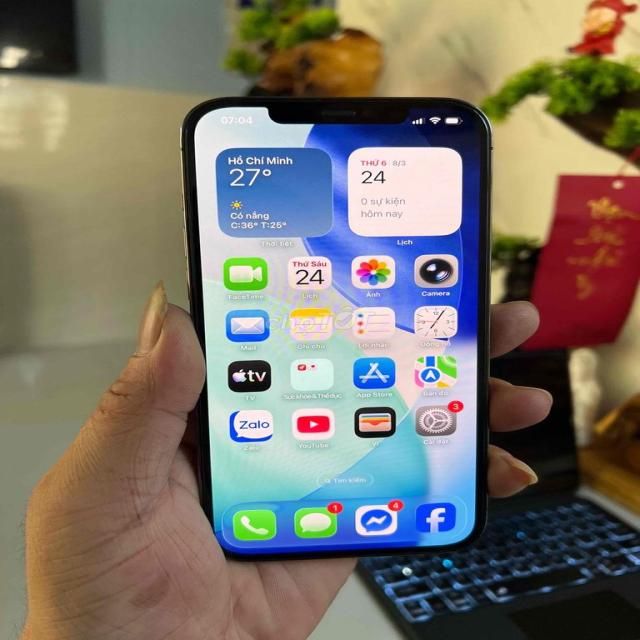gen_12_13: (180, 98, 493, 565)
